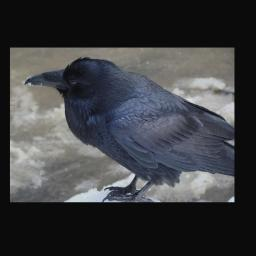Crow: (24, 57, 233, 202)
